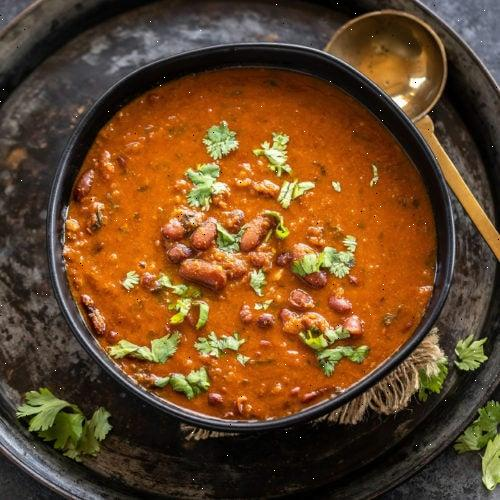rajma: (61, 69, 449, 454)
